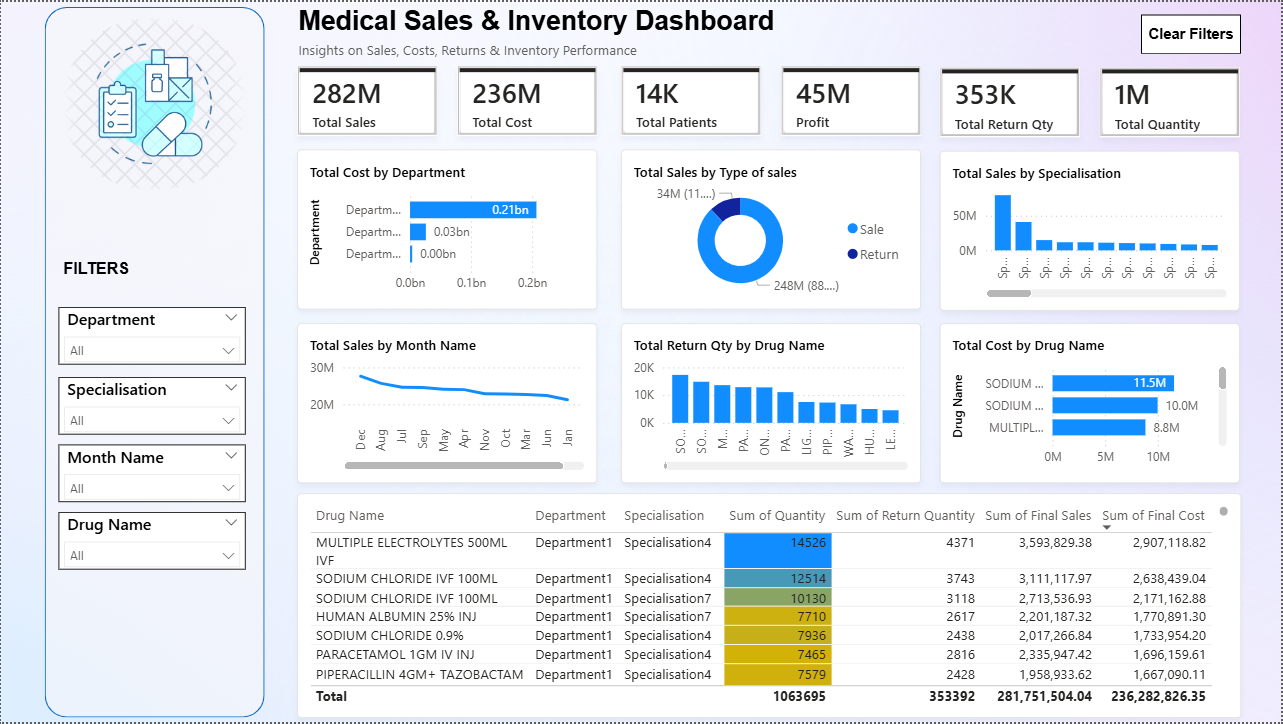

The dashboard page shown, as its layout file describes it:
{"tool":"powerbi","page":{"name":"Dashboard","canvas":[1280,720],"ordinal":0},"visuals":[{"type":"textbox","title":"Medical Sales & Inventory Dashboard","box":[292.8,4,767.5,56.2],"z":0},{"type":"shape","box":[44,5,219.8,710.5],"z":0,"group":"g1"},{"type":"group","id":"g1","title":"Group 1","box":[44,5,219.8,710.5],"z":1000},{"type":"image","box":[61.5,16.6,183.8,171.2],"z":1000,"group":"g1"},{"type":"cardVisual","fields":{"Data":["Medical_Inventory_Data.Total Sales"]},"box":[297,63.8,140,70],"z":1000,"group":"g2"},{"type":"group","id":"g2","title":"Group 2","box":[296.5,63.8,944.2,651.4],"z":2000},{"type":"cardVisual","fields":{"Data":["Medical_Inventory_Data.Profit"]},"box":[780.5,64.1,140,70],"z":2000,"group":"g2"},{"type":"textbox","title":"FILTERS","box":[58,257.8,96.2,26.2],"z":2000,"group":"g1"},{"type":"actionButton","box":[1139.5,12.8,100,39.5],"z":3000},{"type":"cardVisual","fields":{"Data":["Medical_Inventory_Data.Total Quantity"]},"box":[1099.5,65,140,70],"z":3000,"group":"g2"},{"type":"slicer","fields":{"Values":["Medical_Inventory_Data.Department"]},"box":[58,304.4,187.5,57.5],"z":3000,"group":"g1"},{"type":"cardVisual","fields":{"Data":["Medical_Inventory_Data.Total Patients"]},"box":[620.5,64.1,140,70],"z":4000,"group":"g2"},{"type":"slicer","fields":{"Values":["Medical_Inventory_Data.Specialisation"]},"box":[58,374.4,187.5,57.5],"z":4000,"group":"g1"},{"type":"cardVisual","fields":{"Data":["Medical_Inventory_Data.Total Return Qty"]},"box":[939.5,65,140,70],"z":5000,"group":"g2"},{"type":"slicer","fields":{"Values":["Medical_Inventory_Data.Month Name"]},"box":[58,441.9,187.5,57.5],"z":5000,"group":"g1"},{"type":"cardVisual","fields":{"Data":["Medical_Inventory_Data.Total Cost"]},"box":[456.5,64.1,140,70],"z":6000,"group":"g2"},{"type":"slicer","fields":{"Values":["Medical_Inventory_Data.Drug Name"]},"box":[58,509.4,187.5,57.5],"z":6000,"group":"g1"},{"type":"clusteredBarChart","fields":{"Category":["Medical_Inventory_Data.Department"],"Y":["Medical_Inventory_Data.Total Cost"]},"box":[296.5,147.8,300,160],"z":7000,"group":"g2"},{"type":"clusteredColumnChart","fields":{"Category":["Medical_Inventory_Data.Specialisation"],"Y":["Medical_Inventory_Data.Total Sales"]},"box":[939.5,148.8,300,160],"z":8000,"group":"g2"},{"type":"donutChart","fields":{"Category":["Medical_Inventory_Data.Type of sales"],"Y":["Medical_Inventory_Data.Total Sales"]},"box":[620.5,147.8,300,160],"z":9000,"group":"g2"},{"type":"lineChart","fields":{"Category":["Medical_Inventory_Data.Month Name"],"Y":["Medical_Inventory_Data.Total Sales"]},"box":[296.5,321.6,300,160],"z":10000,"group":"g2"},{"type":"clusteredBarChart","fields":{"Category":["Medical_Inventory_Data.Drug Name"],"Y":["Medical_Inventory_Data.Total Cost"]},"box":[939,321.6,300,160],"z":11000,"group":"g2"},{"type":"clusteredColumnChart","fields":{"Category":["Medical_Inventory_Data.Drug Name"],"Y":["Medical_Inventory_Data.Total Return Qty"]},"box":[620.3,321.6,300,160],"z":12000,"group":"g2"},{"type":"tableEx","fields":{"Values":["Medical_Inventory_Data.Drug Name","Medical_Inventory_Data.Department","Medical_Inventory_Data.Specialisation","Sum(Medical_Inventory_Data.Quantity)","Sum(Medical_Inventory_Data.Return Quantity)","Sum(Medical_Inventory_Data.Final Sales)","Sum(Medical_Inventory_Data.Final Cost)"]},"box":[296.5,490.7,944.2,224.4],"z":13000,"group":"g2"}]}

Visuals, with their boxes in screenshot pixels (x1, y1, x2, y2), scaled from the page's 1280x720 canvas onto the 1283x724 screenshot:
"Medical Sales & Inventory Dashboard" textbox: <region>293, 4, 1063, 61</region>
shape: <region>44, 5, 264, 719</region>
"Group 1" group: <region>44, 5, 264, 719</region>
image: <region>62, 17, 246, 189</region>
cardVisual - Medical_Inventory_Data.Total Sales: <region>298, 64, 438, 135</region>
"Group 2" group: <region>297, 64, 1244, 719</region>
cardVisual - Medical_Inventory_Data.Profit: <region>782, 64, 923, 135</region>
"FILTERS" textbox: <region>58, 259, 155, 286</region>
actionButton: <region>1142, 13, 1242, 53</region>
cardVisual - Medical_Inventory_Data.Total Quantity: <region>1102, 65, 1242, 136</region>
slicer - Medical_Inventory_Data.Department: <region>58, 306, 246, 364</region>
cardVisual - Medical_Inventory_Data.Total Patients: <region>622, 64, 762, 135</region>
slicer - Medical_Inventory_Data.Specialisation: <region>58, 376, 246, 434</region>
cardVisual - Medical_Inventory_Data.Total Return Qty: <region>942, 65, 1082, 136</region>
slicer - Medical_Inventory_Data.Month Name: <region>58, 444, 246, 502</region>
cardVisual - Medical_Inventory_Data.Total Cost: <region>458, 64, 598, 135</region>
slicer - Medical_Inventory_Data.Drug Name: <region>58, 512, 246, 570</region>
clusteredBarChart - Medical_Inventory_Data.Department x Medical_Inventory_Data.Total Cost: <region>297, 149, 598, 310</region>
clusteredColumnChart - Medical_Inventory_Data.Specialisation x Medical_Inventory_Data.Total Sales: <region>942, 150, 1242, 311</region>
donutChart - Medical_Inventory_Data.Type of sales x Medical_Inventory_Data.Total Sales: <region>622, 149, 923, 310</region>
lineChart - Medical_Inventory_Data.Month Name x Medical_Inventory_Data.Total Sales: <region>297, 323, 598, 484</region>
clusteredBarChart - Medical_Inventory_Data.Drug Name x Medical_Inventory_Data.Total Cost: <region>941, 323, 1242, 484</region>
clusteredColumnChart - Medical_Inventory_Data.Drug Name x Medical_Inventory_Data.Total Return Qty: <region>622, 323, 922, 484</region>
tableEx - Medical_Inventory_Data.Drug Name x Medical_Inventory_Data.Department: <region>297, 493, 1244, 719</region>
